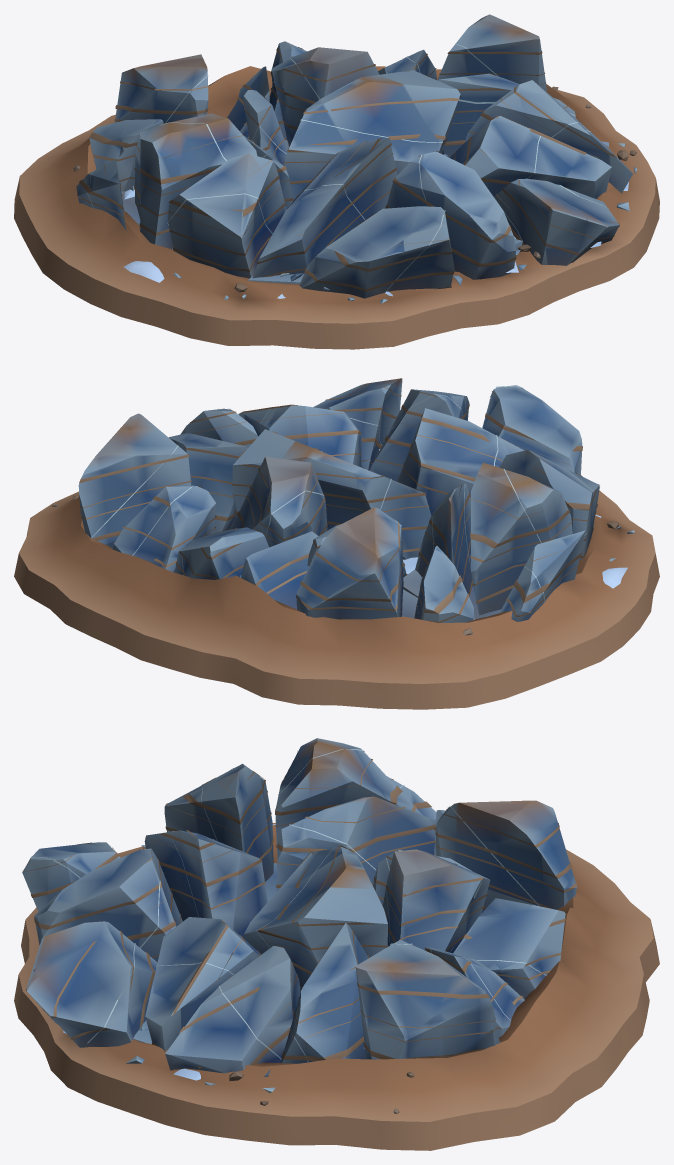
Rendered from ice_outcrop.glb.
The picture shows the model from 3 angles, top to bottom: view 1: azimuth 30°, elevation 25°; view 2: azimuth 150°, elevation 25°; view 3: azimuth 270°, elevation 25°; orthographic projection. The views are drawn at different scales.
Visible parts, largest first — view 1: ice_outcrop_mesh, block_1_mesh, block_0_mesh, block_2_mesh, block_3_mesh, block_4_mesh, block_5_mesh; view 2: ice_outcrop_mesh, block_0_mesh, block_2_mesh, block_4_mesh, block_5_mesh, block_1_mesh, block_3_mesh; view 3: ice_outcrop_mesh, block_3_mesh, block_2_mesh, block_4_mesh, block_0_mesh, block_1_mesh, block_5_mesh.
Part boxes in pixels (x1,y1,x2,y2): ice_outcrop_mesh: (14,66,659,349); block_1_mesh: (252,137,516,298); block_0_mesh: (76,113,293,278); block_2_mesh: (243,41,460,201); block_3_mesh: (450,80,632,265); block_4_mesh: (378,14,575,157); block_5_mesh: (89,54,269,191); ice_outcrop_mesh: (14,449,659,709); block_0_mesh: (415,450,599,621); block_2_mesh: (174,429,431,579); block_4_mesh: (78,413,247,572); block_5_mesh: (240,507,473,622); block_1_mesh: (370,385,582,515); block_3_mesh: (180,378,402,470); ice_outcrop_mesh: (14,822,659,1150); block_3_mesh: (26,917,300,1073); block_2_mesh: (243,845,565,998); block_4_mesh: (280,923,524,1063); block_0_mesh: (164,738,436,891); block_1_mesh: (22,830,267,961); block_5_mesh: (434,800,577,912).
Bounding box in the file's own units: 7.11 × 1.7 × 6.31.
